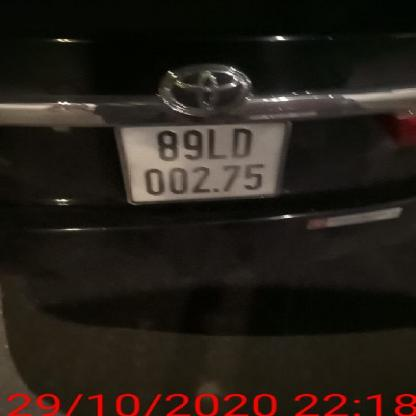biensoxe: (112, 113, 298, 216)
